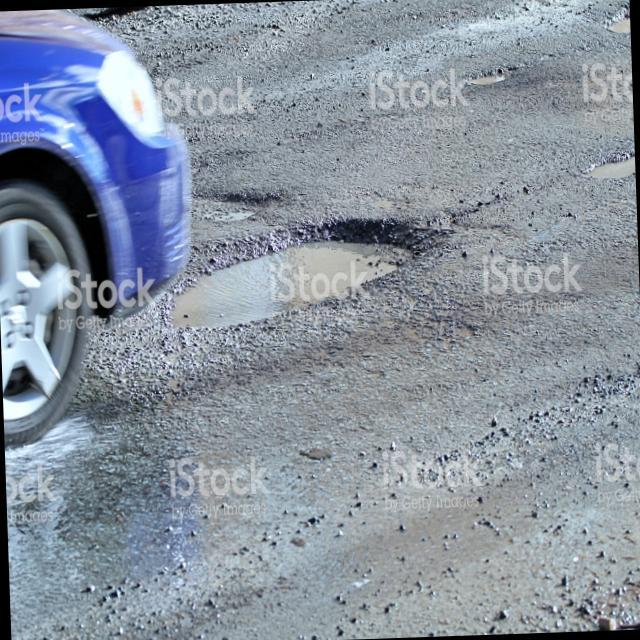Pothole: (157, 236, 456, 314), (194, 167, 286, 210)
